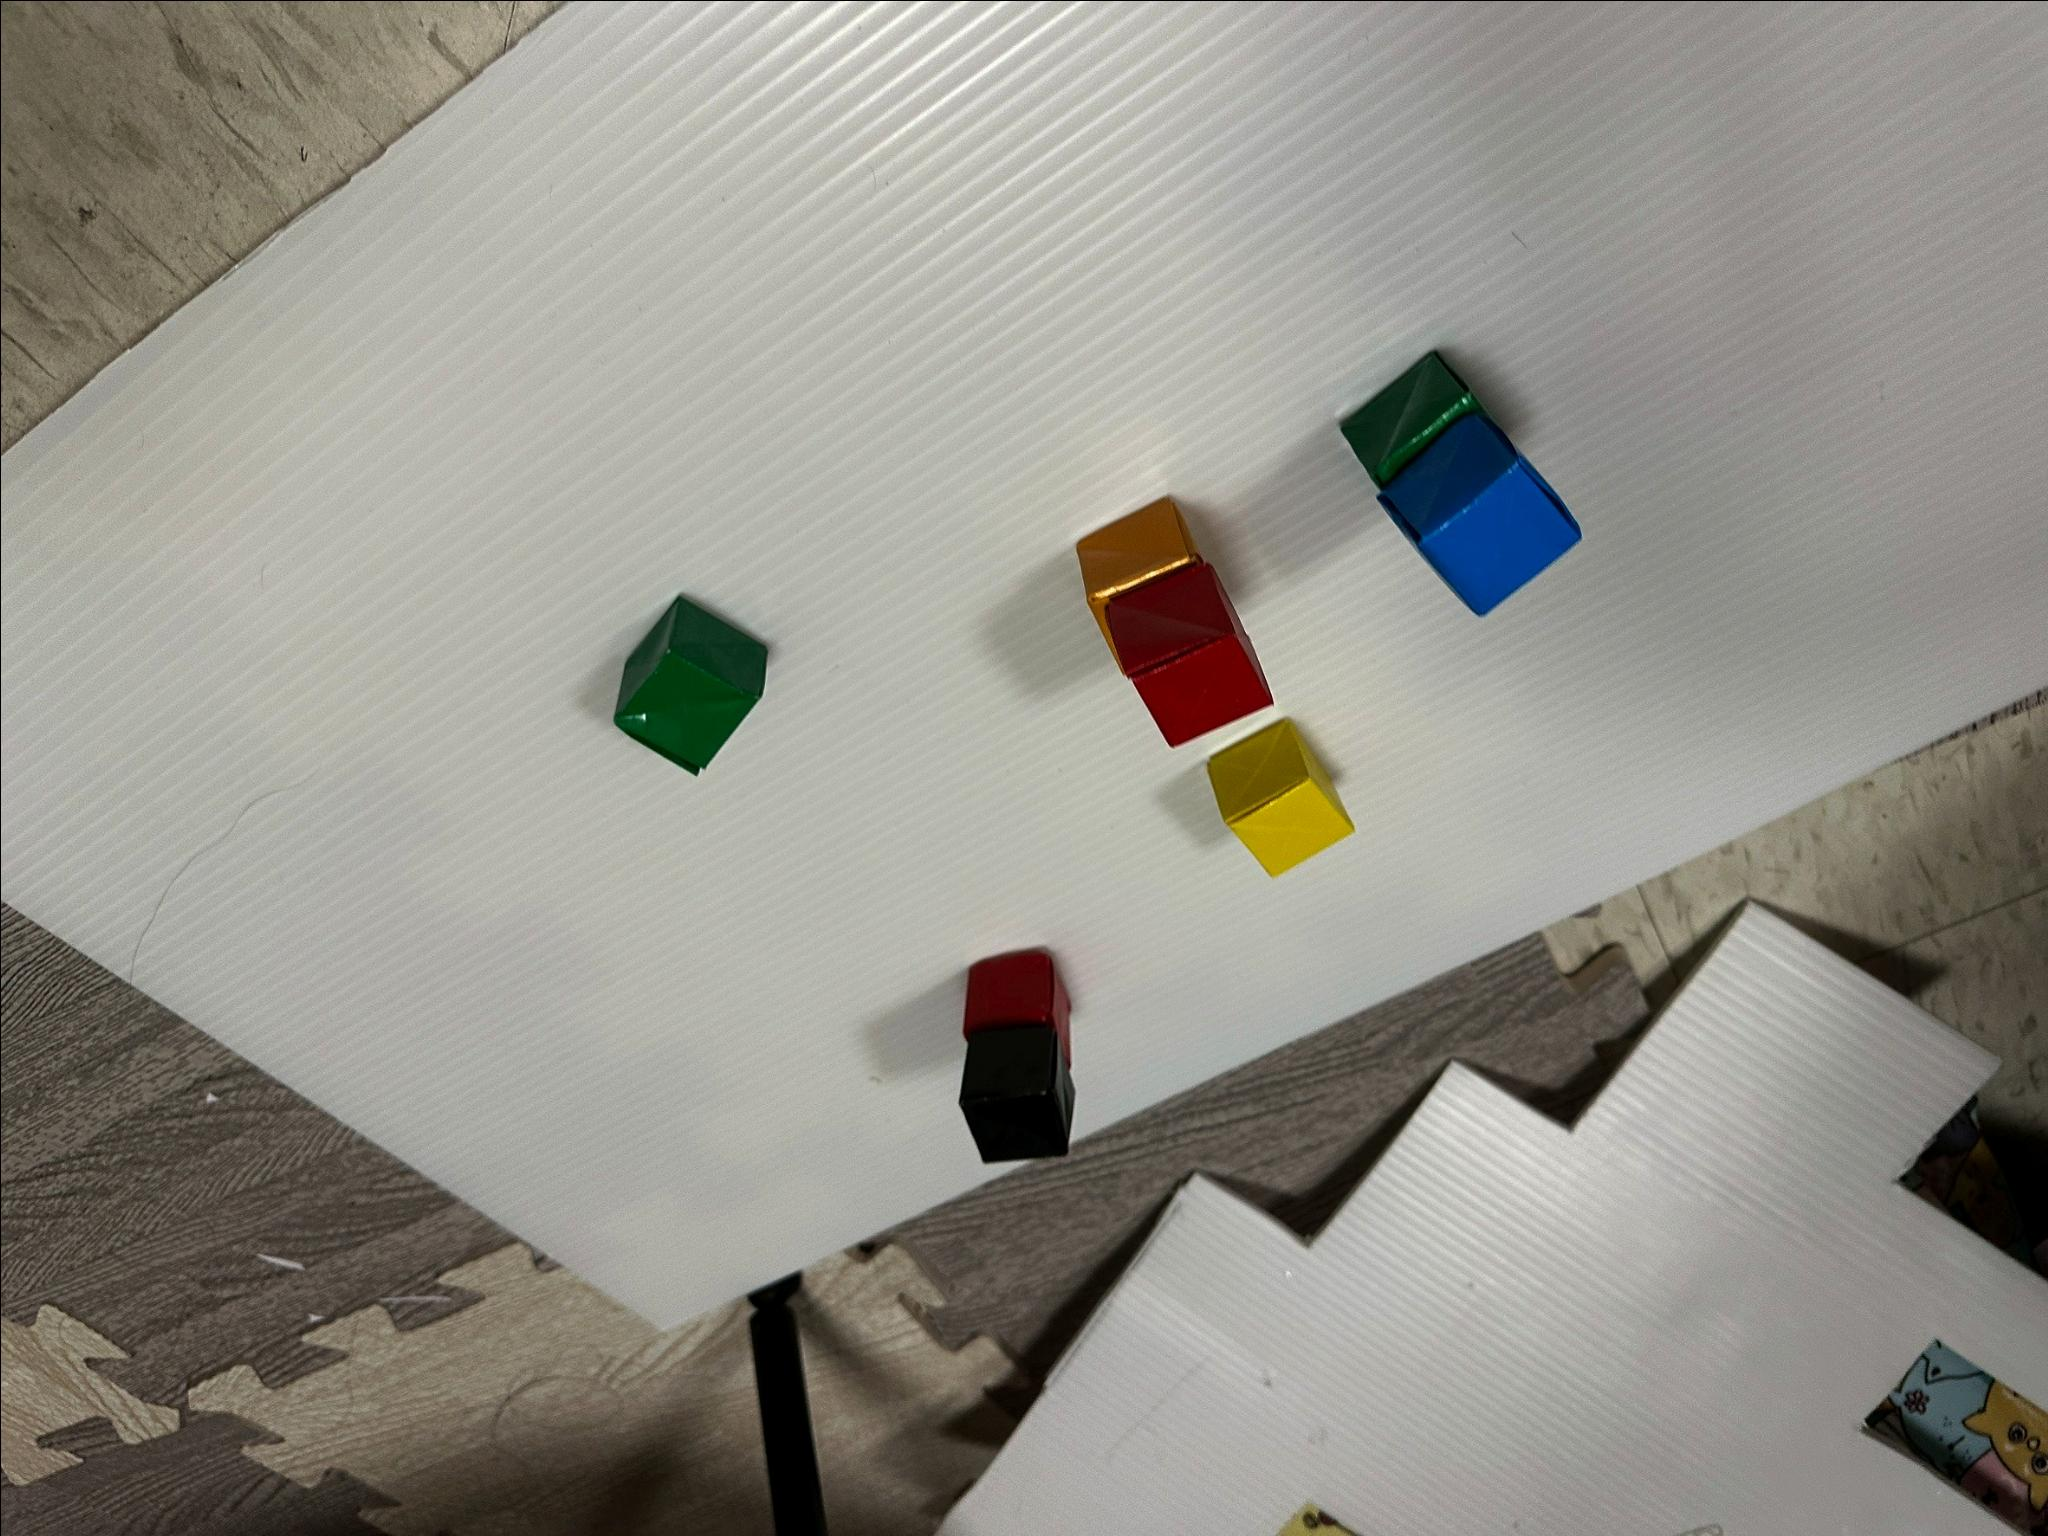cube: (1379, 413, 1580, 613), (1101, 558, 1271, 744), (614, 597, 766, 771), (1208, 721, 1353, 874), (1342, 350, 1480, 484), (1076, 497, 1197, 645), (959, 1026, 1074, 1160), (964, 952, 1069, 1065)
